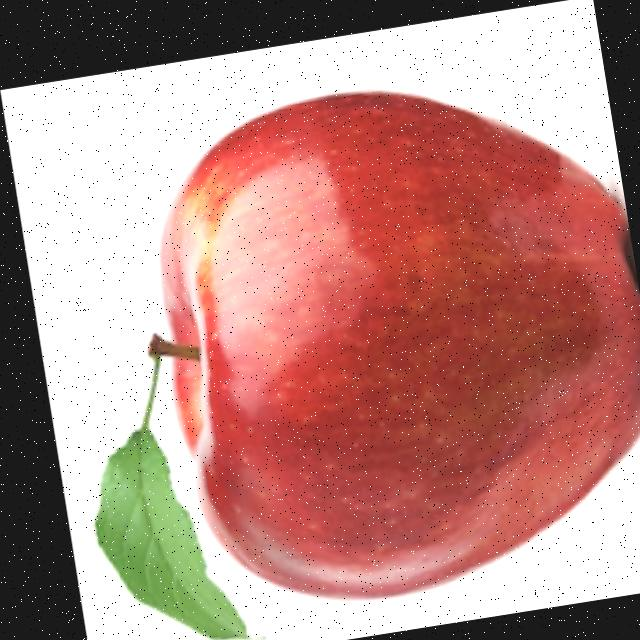Ripe: (114, 44, 640, 634)
